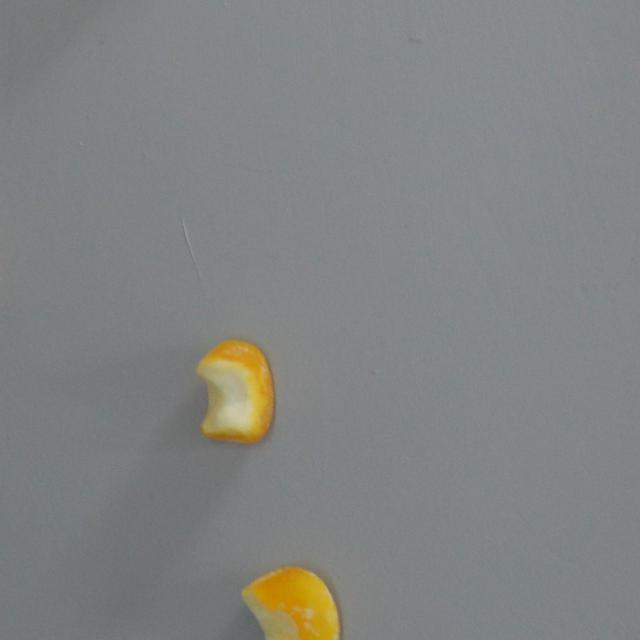pelicula: (196, 338, 278, 444), (240, 565, 344, 640)
